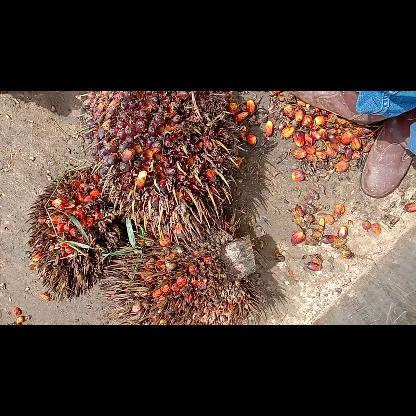TBS masak: (79, 91, 247, 247)
Terlalu masak: (99, 232, 259, 324), (22, 166, 122, 302)
